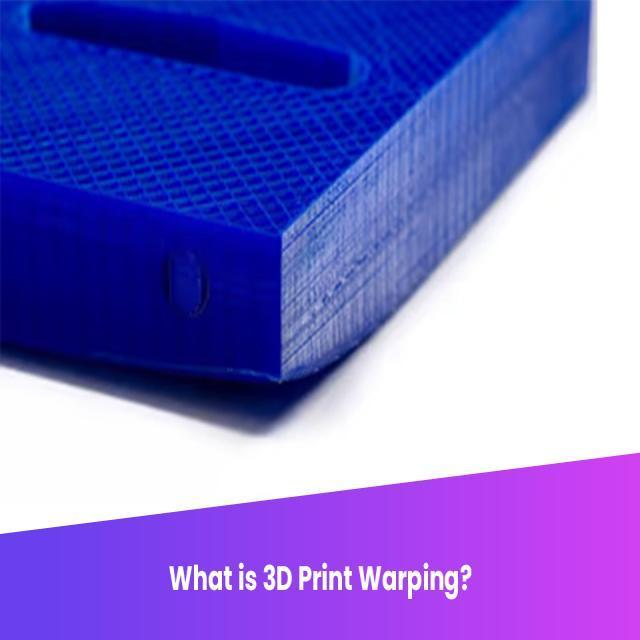warping: (132, 334, 372, 446)
